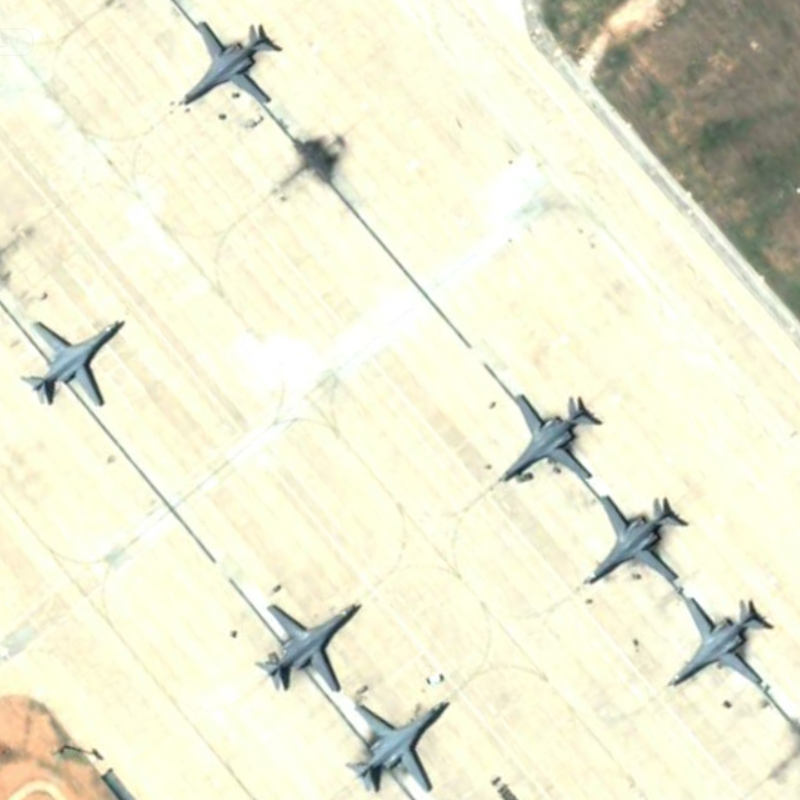A10: (249, 581, 368, 703), (492, 383, 607, 489), (660, 592, 778, 694), (346, 688, 454, 798), (26, 305, 132, 414), (177, 7, 287, 112), (587, 494, 692, 589)
